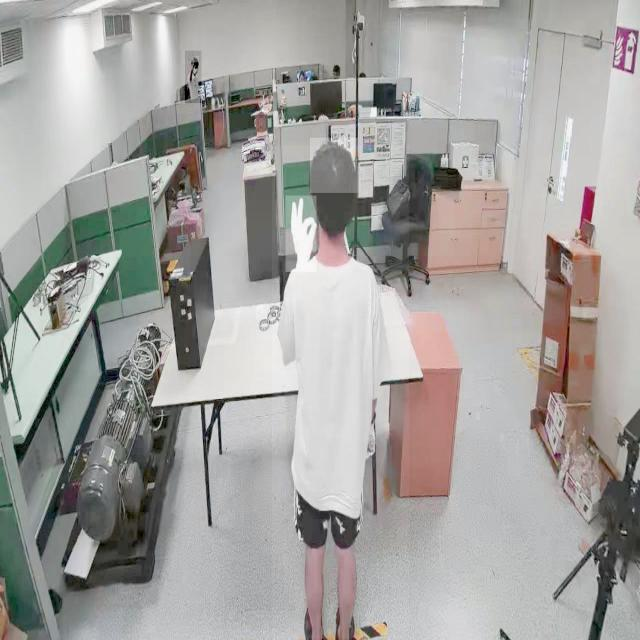face_mask: (192, 59, 198, 76)
hand_glove: (286, 196, 316, 272)
head_nohelmet: (310, 138, 358, 194), (191, 56, 199, 63)
person: (271, 146, 409, 639), (184, 51, 202, 104)
